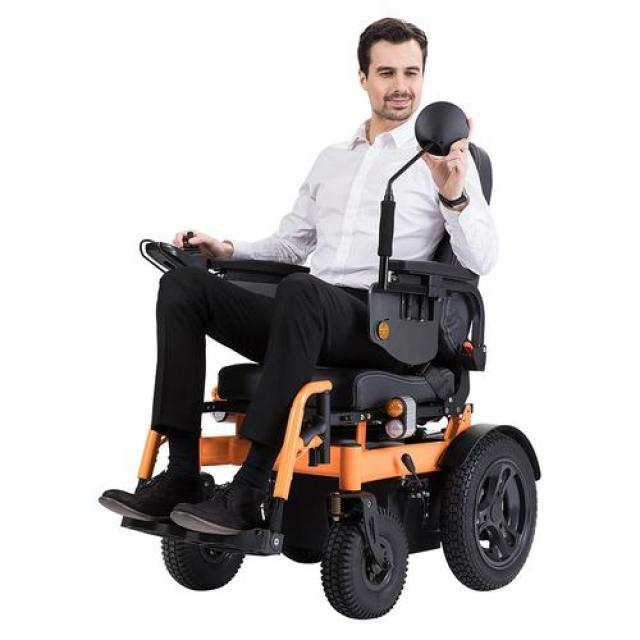wheelchairs: (88, 109, 554, 622)
